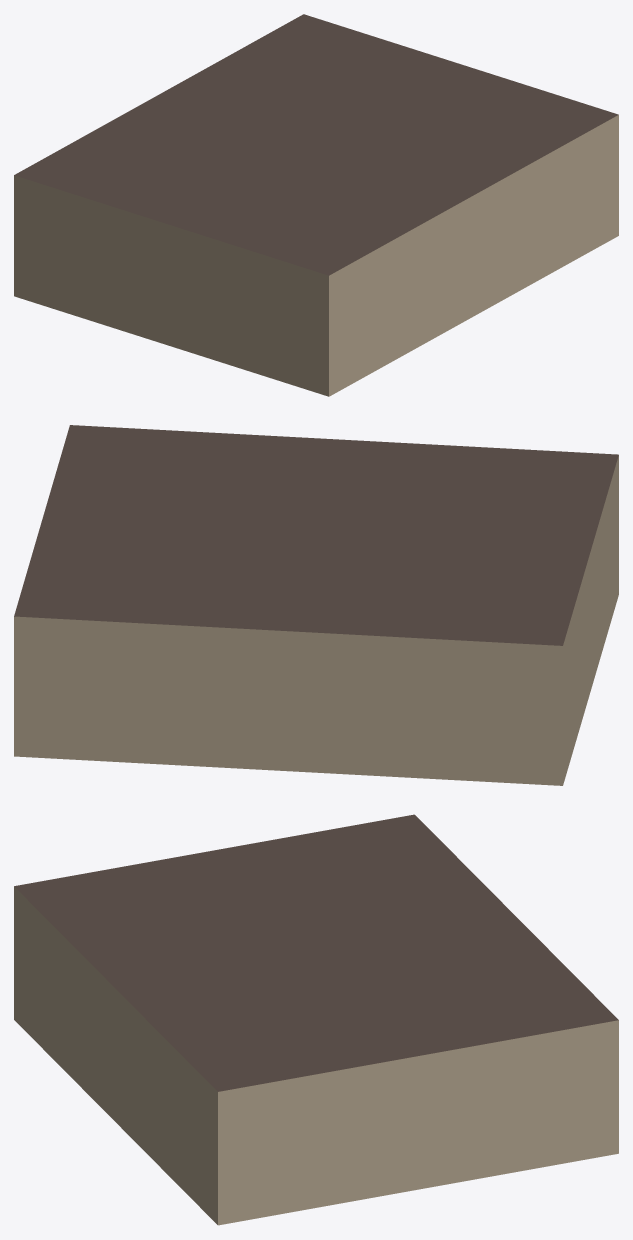
The picture shows the model from 3 angles, top to bottom: view 1: azimuth 30°, elevation 25°; view 2: azimuth 150°, elevation 25°; view 3: azimuth 270°, elevation 25°; orthographic projection. The views are drawn at different scales.
Parts seen in each view (by area): view 1: HP-w298243640; view 2: HP-w298243640; view 3: HP-w298243640.
Boxes of the visible parts, x1=… form: HP-w298243640: x1=14, y1=14, x2=618, y2=396; HP-w298243640: x1=14, y1=425, x2=618, y2=785; HP-w298243640: x1=14, y1=814, x2=618, y2=1225.
Size of the model in its own units: 40.11 by 9 by 36.95.
